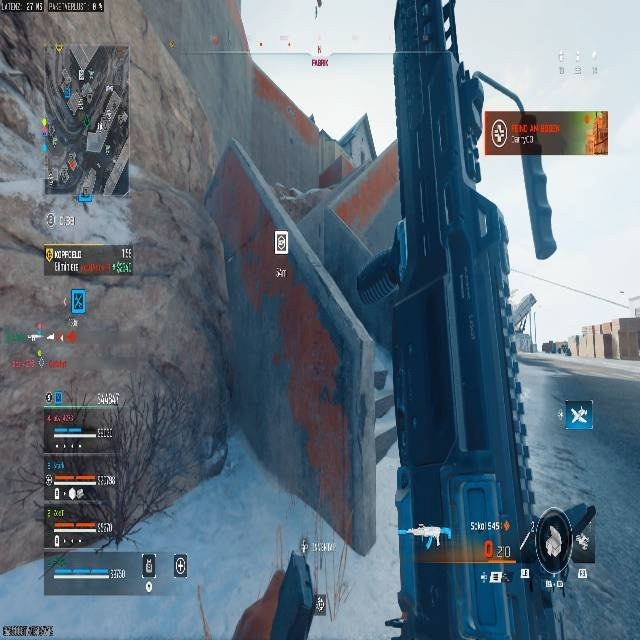player: (560, 341, 571, 356)
